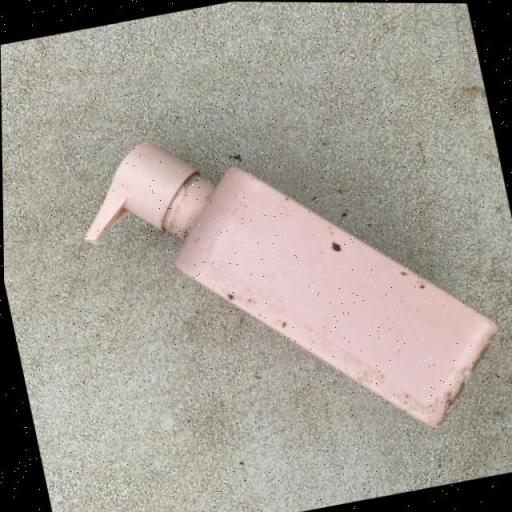plastic: (65, 80, 512, 486)
